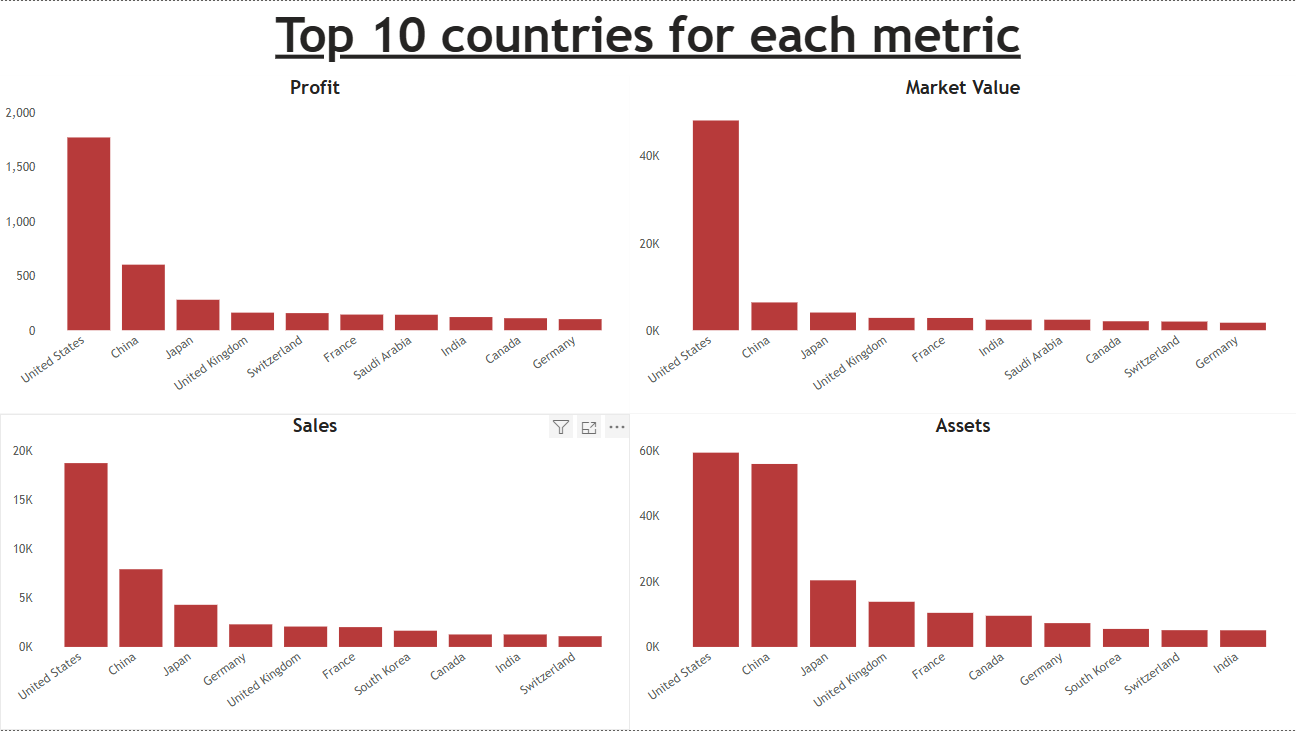

Layout of this report page (visuals, bound fields, positions):
{"tool":"powerbi","page":{"name":"Top 10 Countries","canvas":[1280,720],"ordinal":1},"visuals":[{"type":"columnChart","title":"Profit","fields":{"Y":["Sum(top_2000_companies.Profit (Billon) )"],"Category":["top_2000_companies.Country"]},"box":[0,74.4,622.2,333.3],"z":0},{"type":"columnChart","title":"Market Value","fields":{"Y":["Sum(top_2000_companies.Market Values (Billon))"],"Category":["top_2000_companies.Country"]},"box":[622.2,74.4,657.8,333.3],"z":1000},{"type":"columnChart","title":"Sales","fields":{"Y":["Sum(top_2000_companies.Sales (Billon))"],"Category":["top_2000_companies.Country"]},"box":[0,407.8,622.2,312.2],"z":2000},{"type":"columnChart","title":"Assets","fields":{"Category":["top_2000_companies.Country"],"Y":["Sum(top_2000_companies.Assets (Billon))"]},"box":[622.2,407.8,657.8,312.2],"z":3000},{"type":"textbox","box":[0,0,1280,74.4],"z":4000}]}

Visuals, with their boxes in screenshot pixels (x1, y1, x2, y2), scaled from the page's 1280x720 canvas onto the 1296x731 screenshot:
"Profit" columnChart: pyautogui.locateOnScreen(0, 76, 630, 414)
"Market Value" columnChart: pyautogui.locateOnScreen(630, 76, 1295, 414)
"Sales" columnChart: pyautogui.locateOnScreen(0, 414, 630, 730)
"Assets" columnChart: pyautogui.locateOnScreen(630, 414, 1295, 730)
textbox: pyautogui.locateOnScreen(0, 0, 1295, 76)
